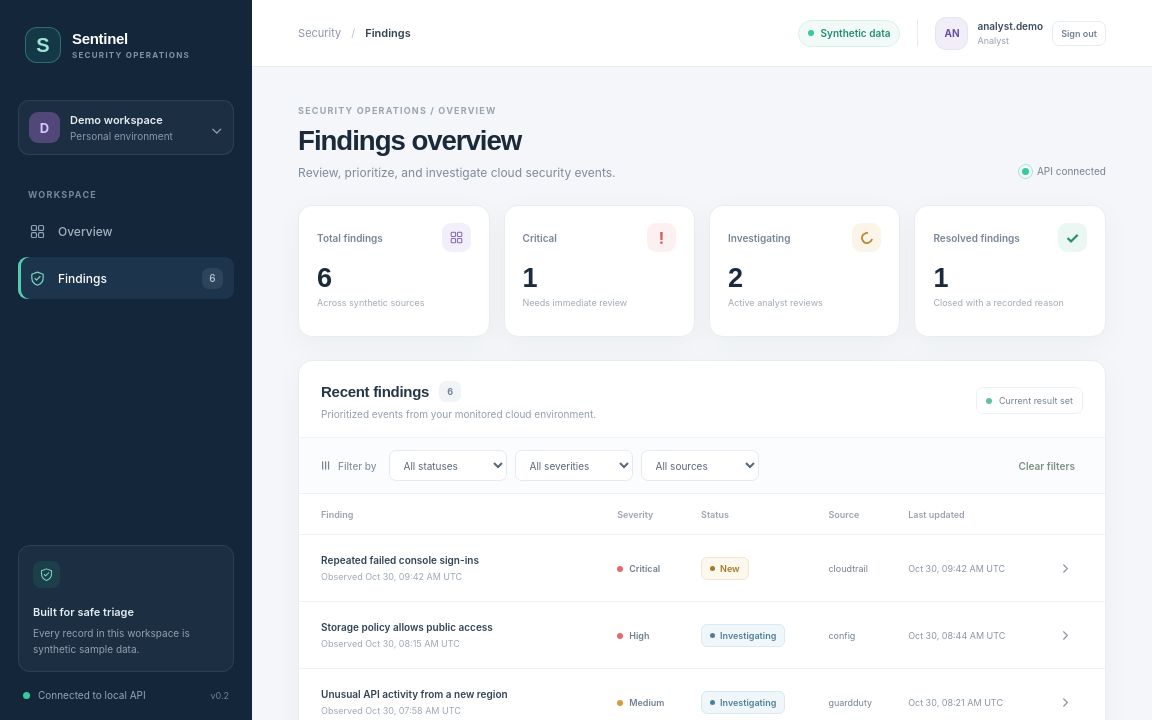
it: API-connected findings workbench › sends status filters to the API and displays the filtered page
The width and height of the screenshot is (1152, 720).
expect the button with aria-label "View Repeated failed console sign-ins" is shown: met, box left=321, top=554, right=479, bottom=566
Select "Investigating" in the dropdown named "Status" at (448, 466), box left=388, top=450, right=506, bottom=481
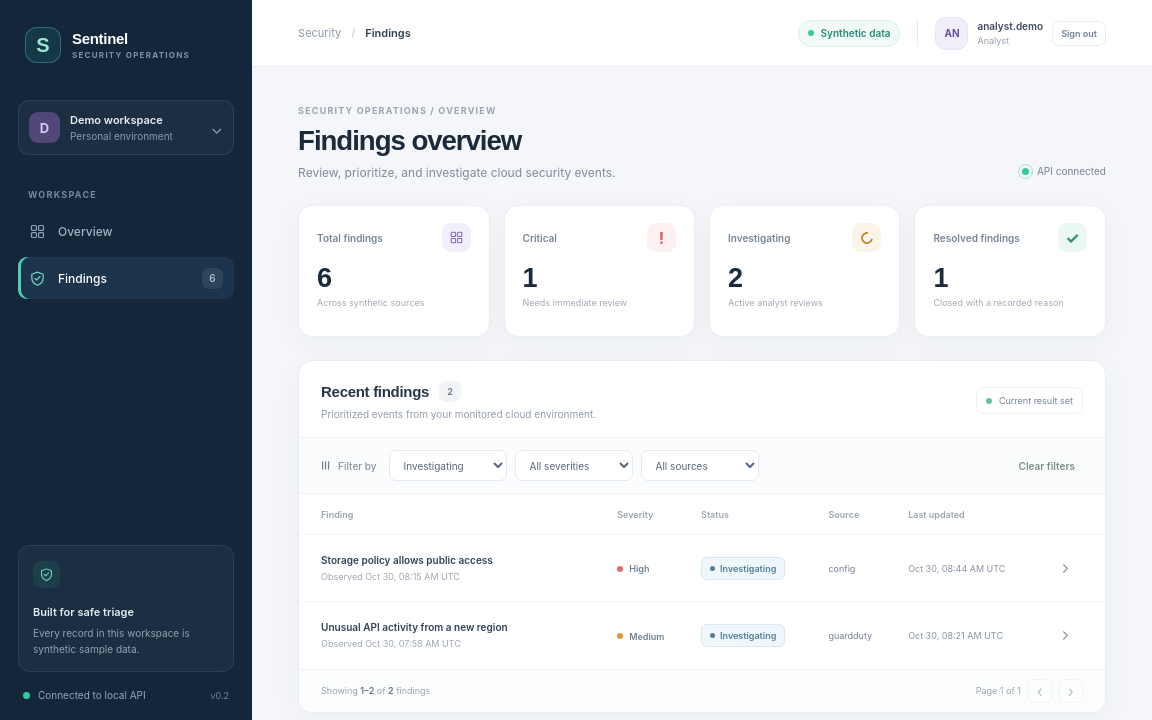
expect the button "Storage policy allows public access" is shown: met, box left=321, top=554, right=493, bottom=566
expect the button "Repeated failed console sign-ins" is gone: met
